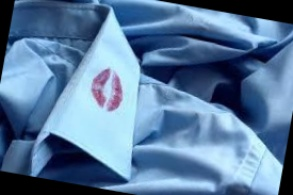lipstick: (84, 62, 131, 123)
